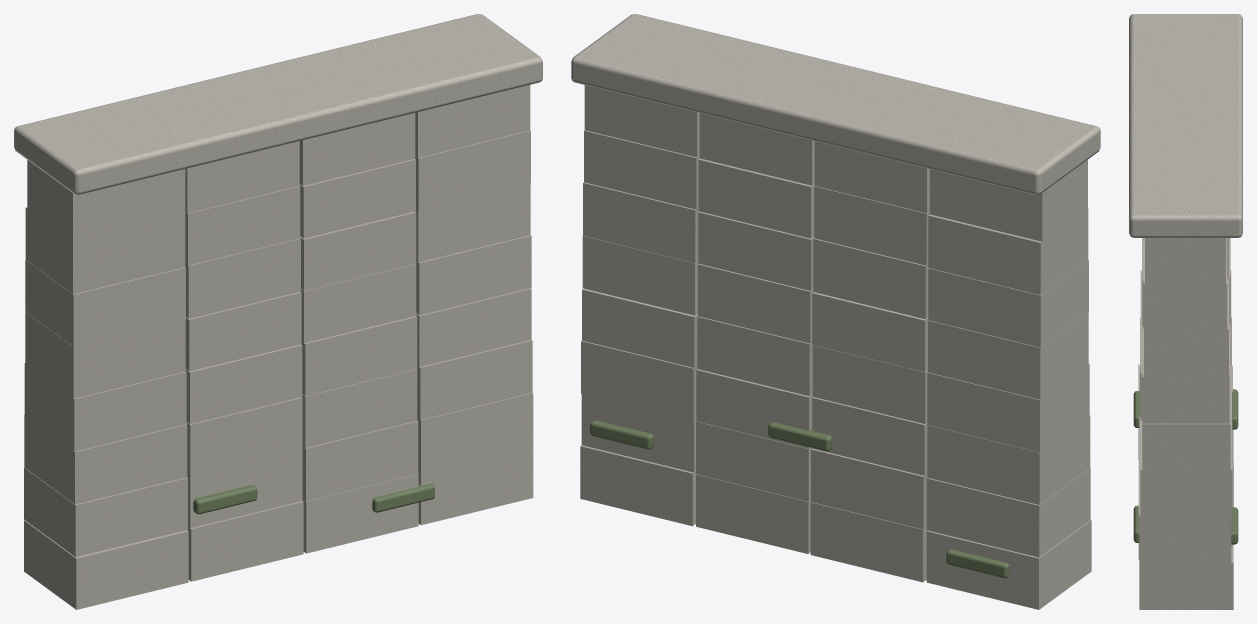
File: jungle-temple-and-stone-city-stone-wall-block-c7508277__36114.glb
3 views of the same model, side by side, from view 1: azimuth 30°, elevation 25°; view 2: azimuth 150°, elevation 25°; view 3: azimuth 270°, elevation 25° (orthographic). The views are drawn at different scales.
Visible parts, largest first — view 1: stone-wall-block; view 2: stone-wall-block; view 3: stone-wall-block.
Boxes of the visible parts, left/top/right/bottom form: stone-wall-block: left=14, top=14, right=542, bottom=609; stone-wall-block: left=571, top=14, right=1100, bottom=609; stone-wall-block: left=1129, top=14, right=1242, bottom=609.
Bounding box in the file's own units: 3.06 × 2.76 × 0.7198.
2 materials, 2 textured.
